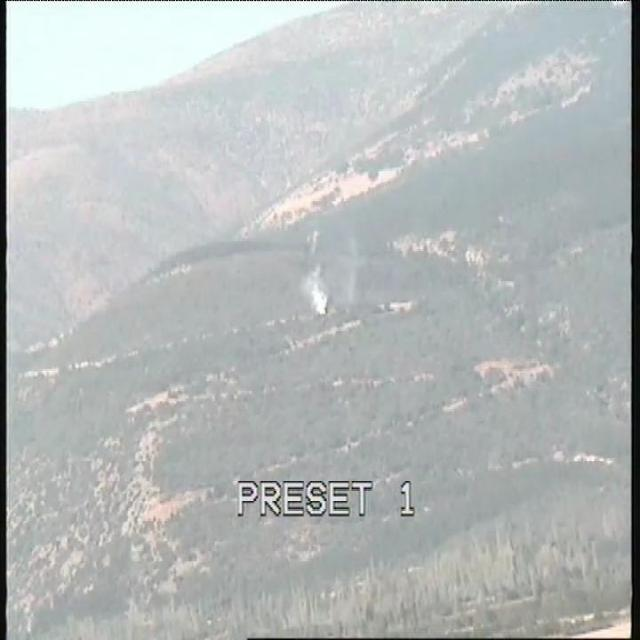Smoke: (300, 246, 361, 317)
